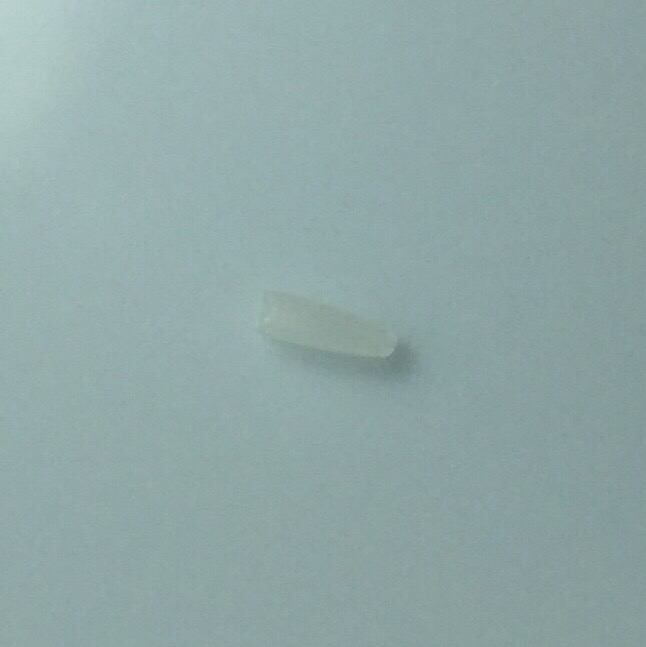Gao Tam: (259, 280, 404, 373)
